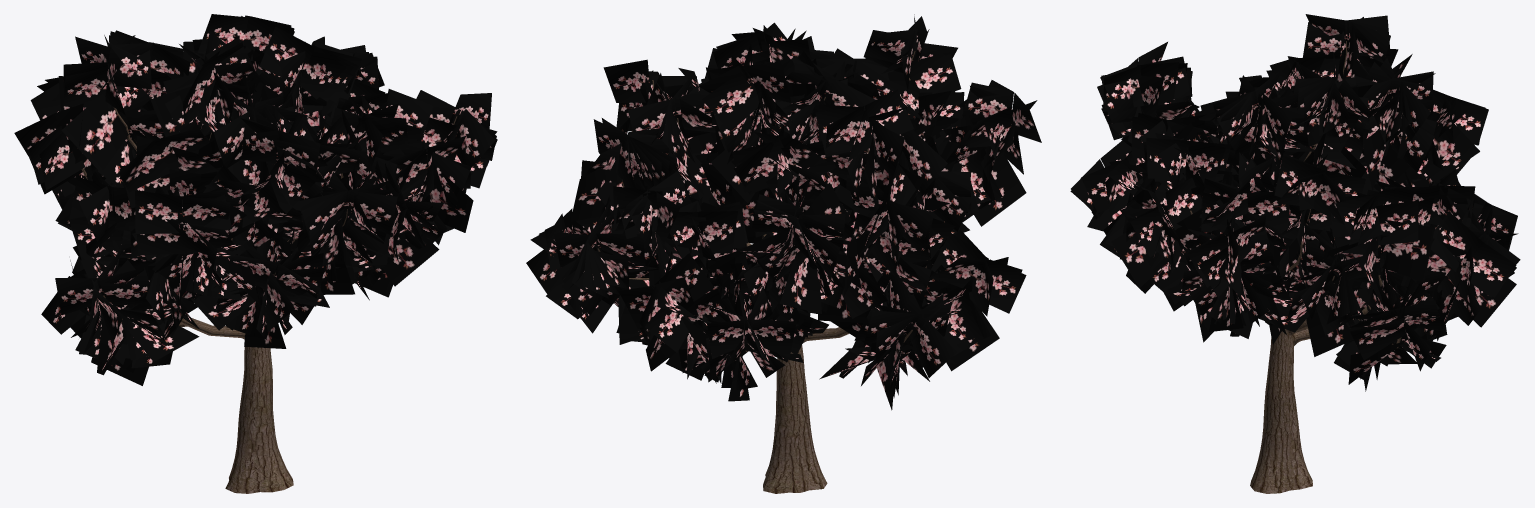
Rendered from NAT_Sakura.glb.
3 views of the same model, side by side, from view 1: azimuth 30°, elevation 25°; view 2: azimuth 150°, elevation 25°; view 3: azimuth 270°, elevation 25° (orthographic). The views are drawn at different scales.
Parts seen in each view (by area): view 1: Sakura_Sakura_Mat_0, Sakura_Bark001_2K_JPG_Mat_0; view 2: Sakura_Sakura_Mat_0, Sakura_Bark001_2K_JPG_Mat_0; view 3: Sakura_Sakura_Mat_0, Sakura_Bark001_2K_JPG_Mat_0.
Part boxes in pixels (box(x1,y1,x2,y2)): Sakura_Sakura_Mat_0: box(14, 14, 497, 385); Sakura_Bark001_2K_JPG_Mat_0: box(81, 87, 457, 493); Sakura_Sakura_Mat_0: box(526, 14, 1041, 410); Sakura_Bark001_2K_JPG_Mat_0: box(598, 51, 927, 493); Sakura_Sakura_Mat_0: box(1070, 14, 1520, 391); Sakura_Bark001_2K_JPG_Mat_0: box(1190, 41, 1401, 493).
Bounding box in the file's own units: 0.4036 × 0.4172 × 0.4016.
2 materials, 2 textured.
